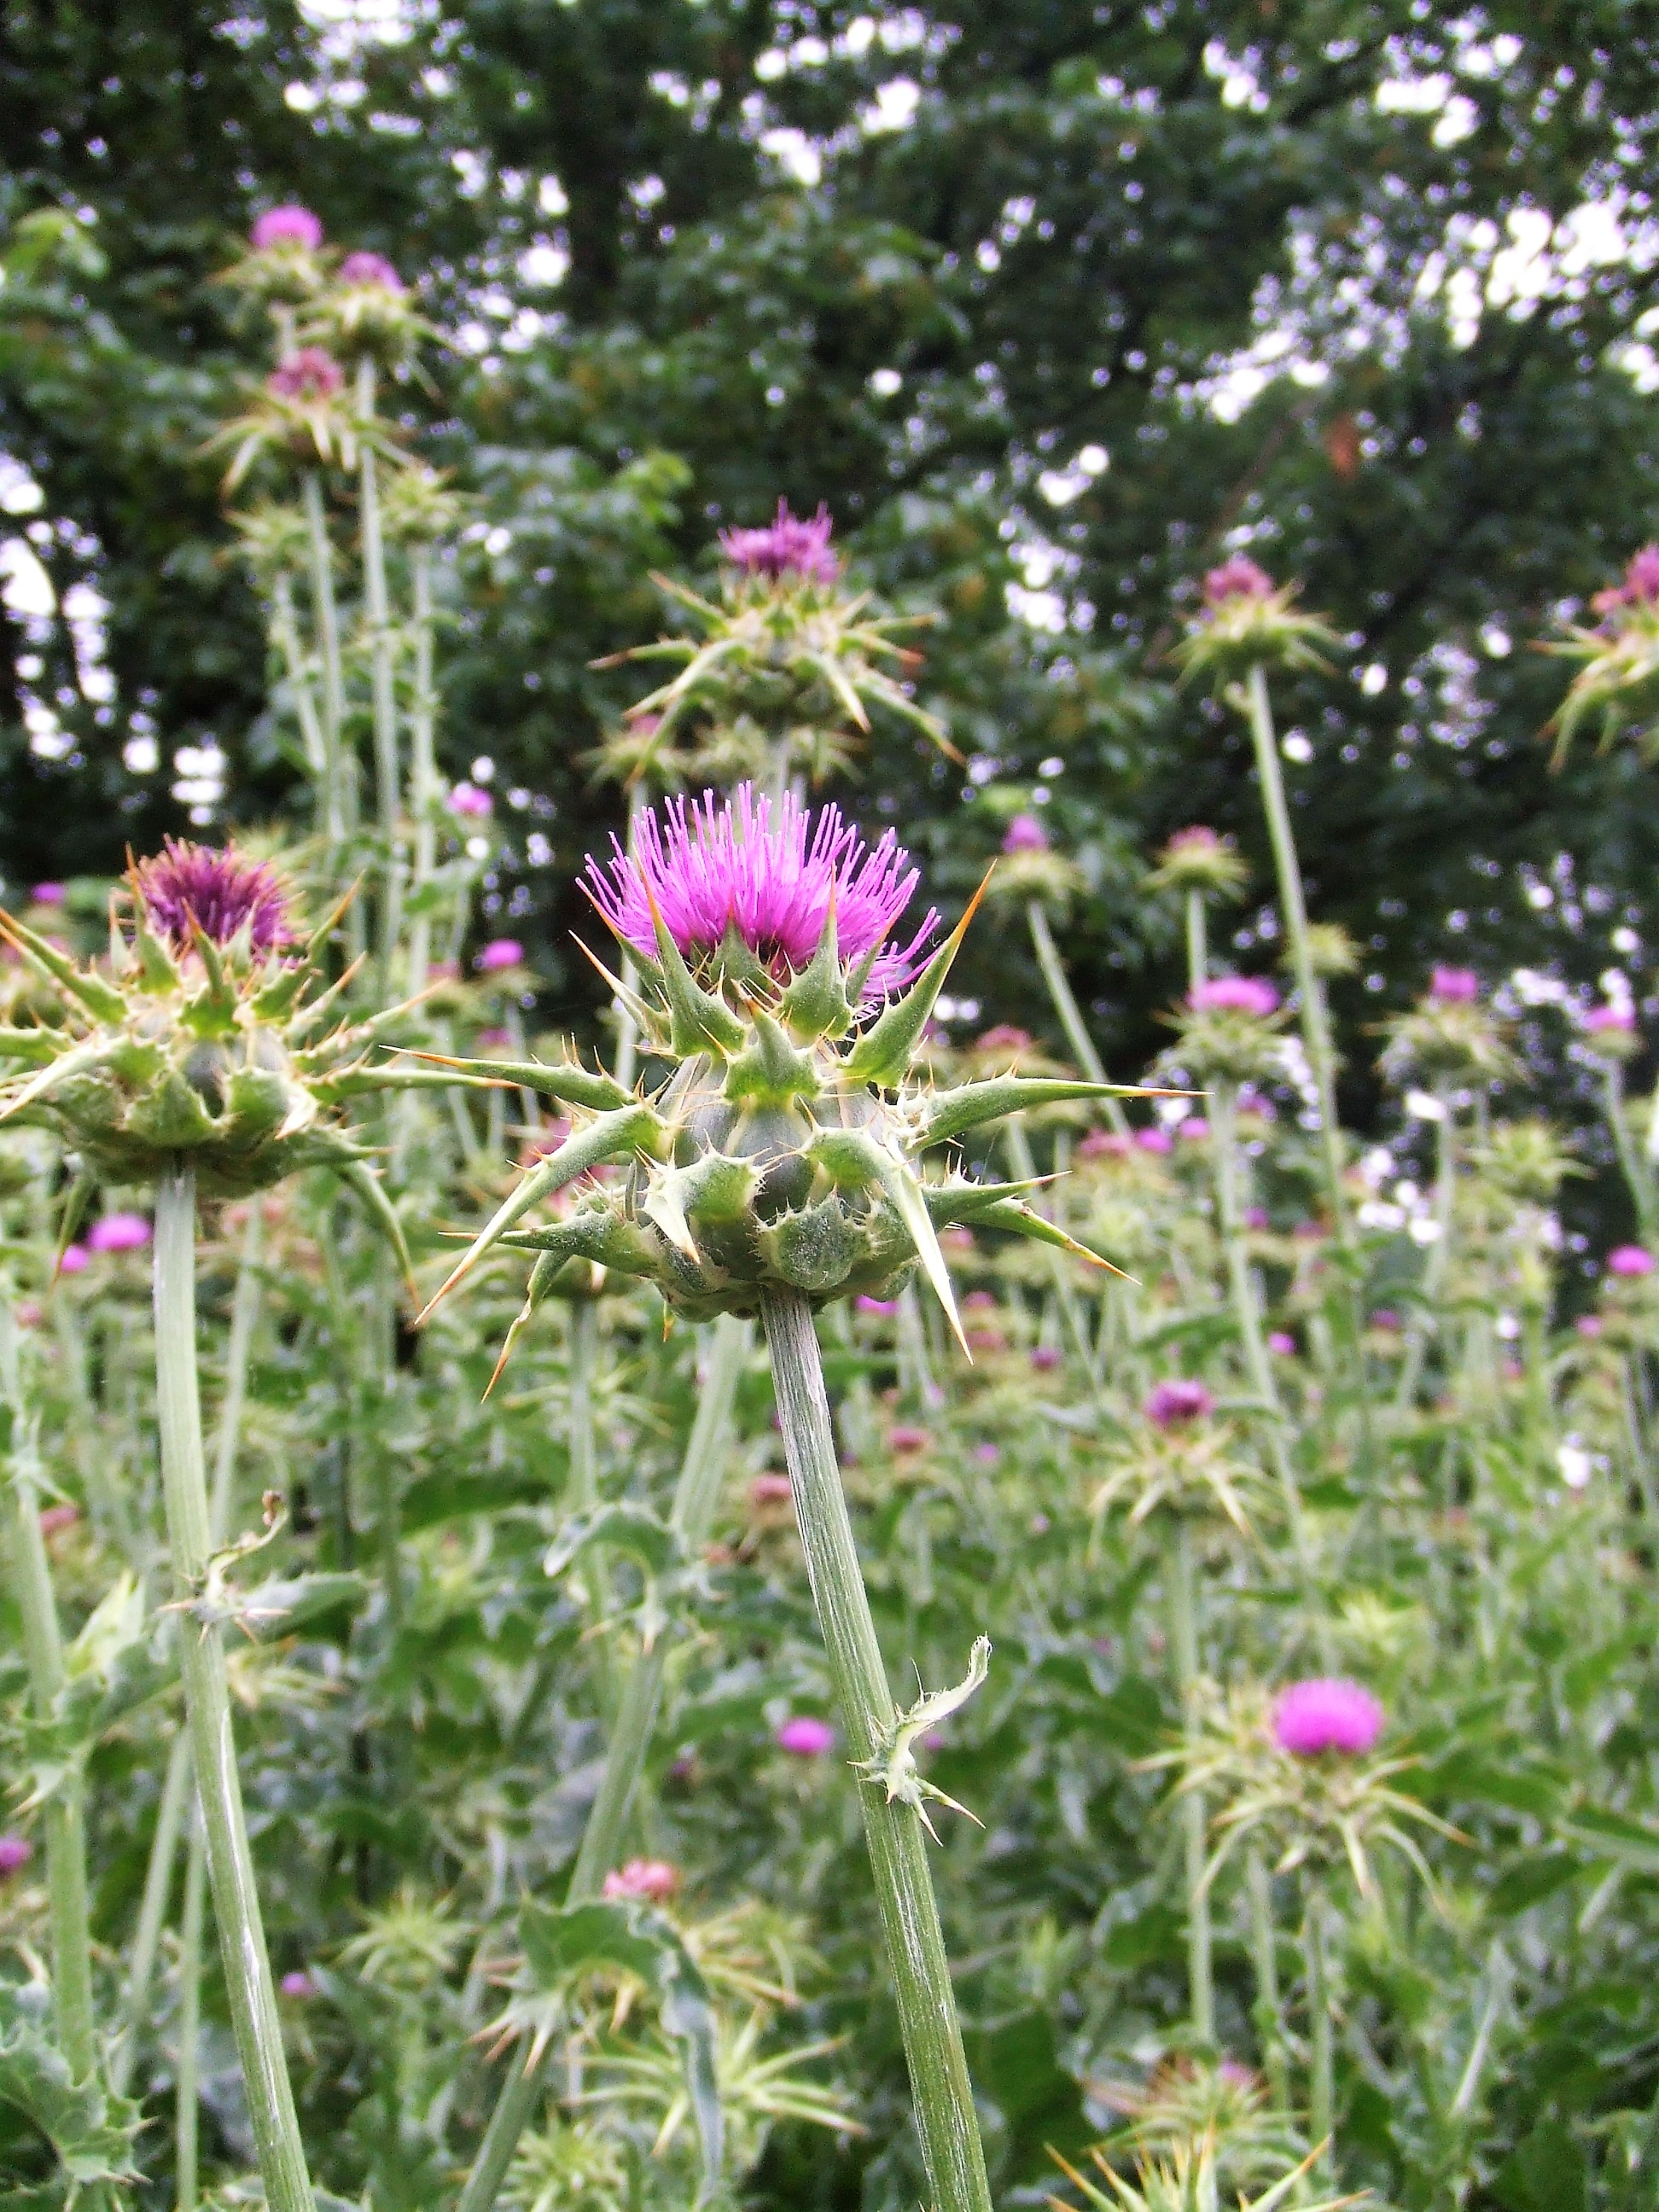thistle: (514, 782, 1094, 1355), (51, 838, 437, 1242), (664, 503, 962, 777), (228, 329, 376, 533), (1249, 1672, 1412, 1836), (227, 195, 342, 298)
